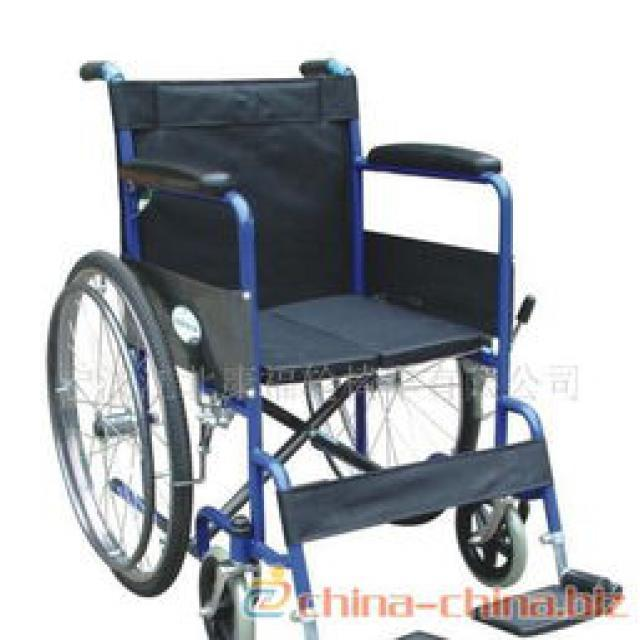wheelchair: (52, 45, 618, 635)
